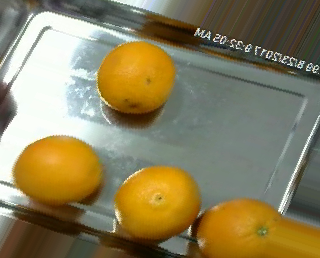Orange: (114, 165, 202, 240), (12, 135, 104, 204), (96, 41, 176, 114)
